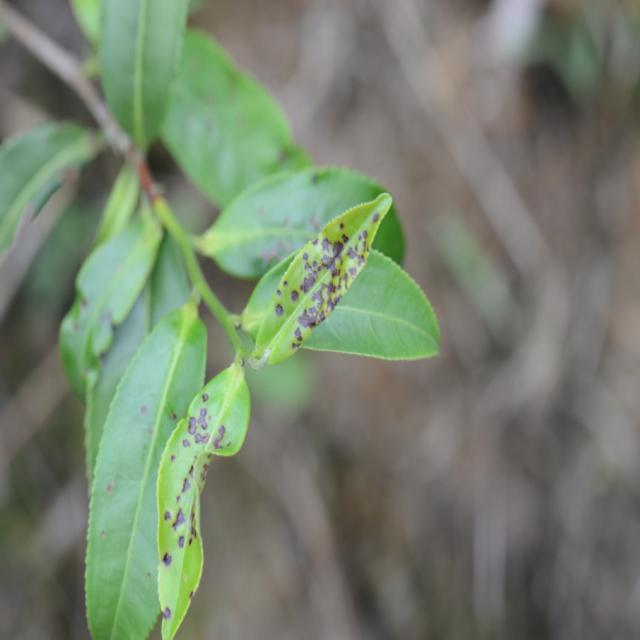Tea red scab: (160, 396, 226, 615), (271, 201, 363, 358)
